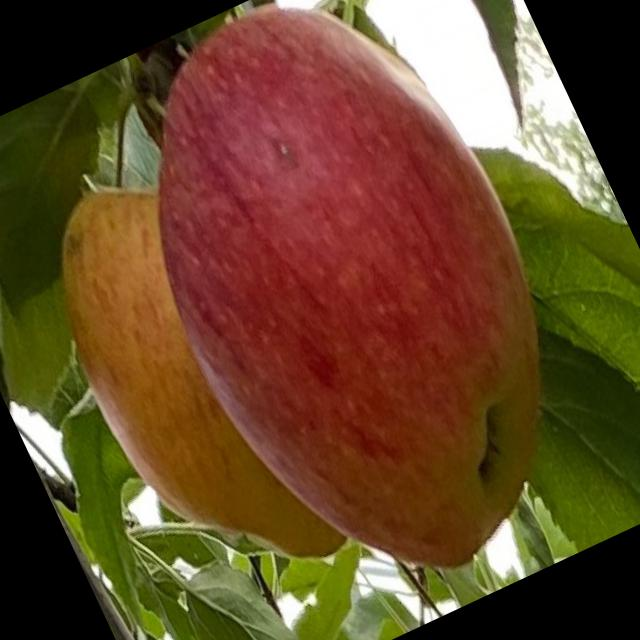Apples: (76, 0, 631, 629), (19, 162, 348, 614)
